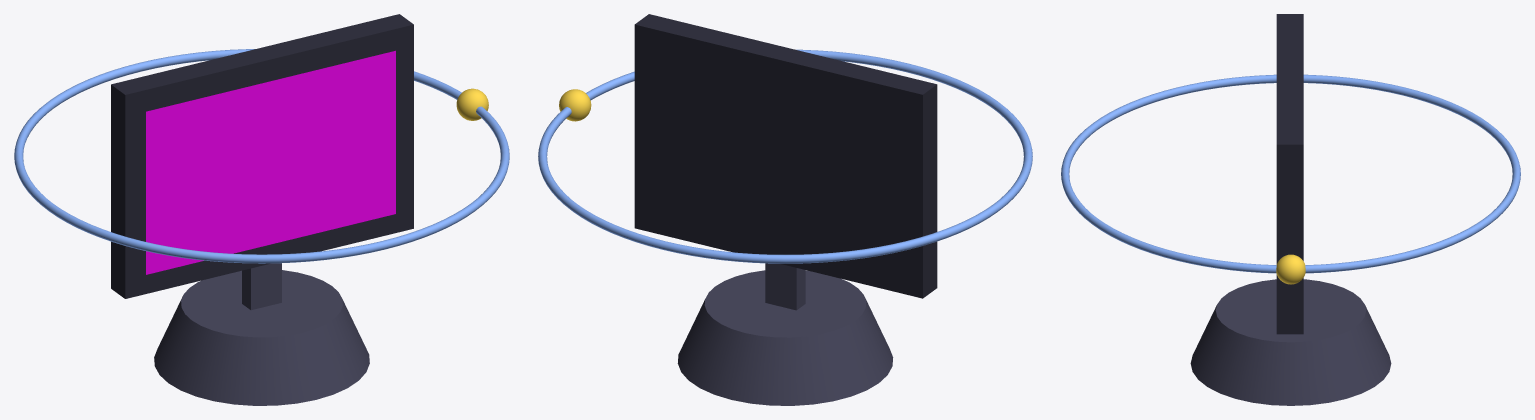
File: starleidoscope.glb
3 renders of one model, left to right at view 1: azimuth 30°, elevation 25°; view 2: azimuth 150°, elevation 25°; view 3: azimuth 270°, elevation 25°, orthographic. The views are drawn at different scales.
Visible parts, largest first — view 1: Screen, Frame, Base, Ring, Neck, Bead; view 2: Frame, Base, Ring, Neck, Bead; view 3: Base, Ring, Frame, Bead.
Boxes of the visible parts, left/top/right/bottom form: Screen: left=146, top=50, right=395, bottom=274; Frame: left=111, top=14, right=413, bottom=298; Base: left=154, top=270, right=369, bottom=405; Ring: left=14, top=49, right=509, bottom=263; Neck: left=242, top=263, right=281, bottom=310; Bead: left=456, top=88, right=488, bottom=120; Frame: left=634, top=14, right=937, bottom=298; Base: left=677, top=270, right=893, bottom=405; Ring: left=538, top=49, right=1032, bottom=263; Neck: left=765, top=263, right=805, bottom=310; Bead: left=559, top=89, right=591, bottom=121; Base: left=1190, top=279, right=1391, bottom=405; Ring: left=1061, top=74, right=1520, bottom=273; Frame: left=1276, top=14, right=1303, bottom=334; Bead: left=1276, top=254, right=1305, bottom=284.
Size of the model in its own units: 2.82 by 1.87 by 2.75.
